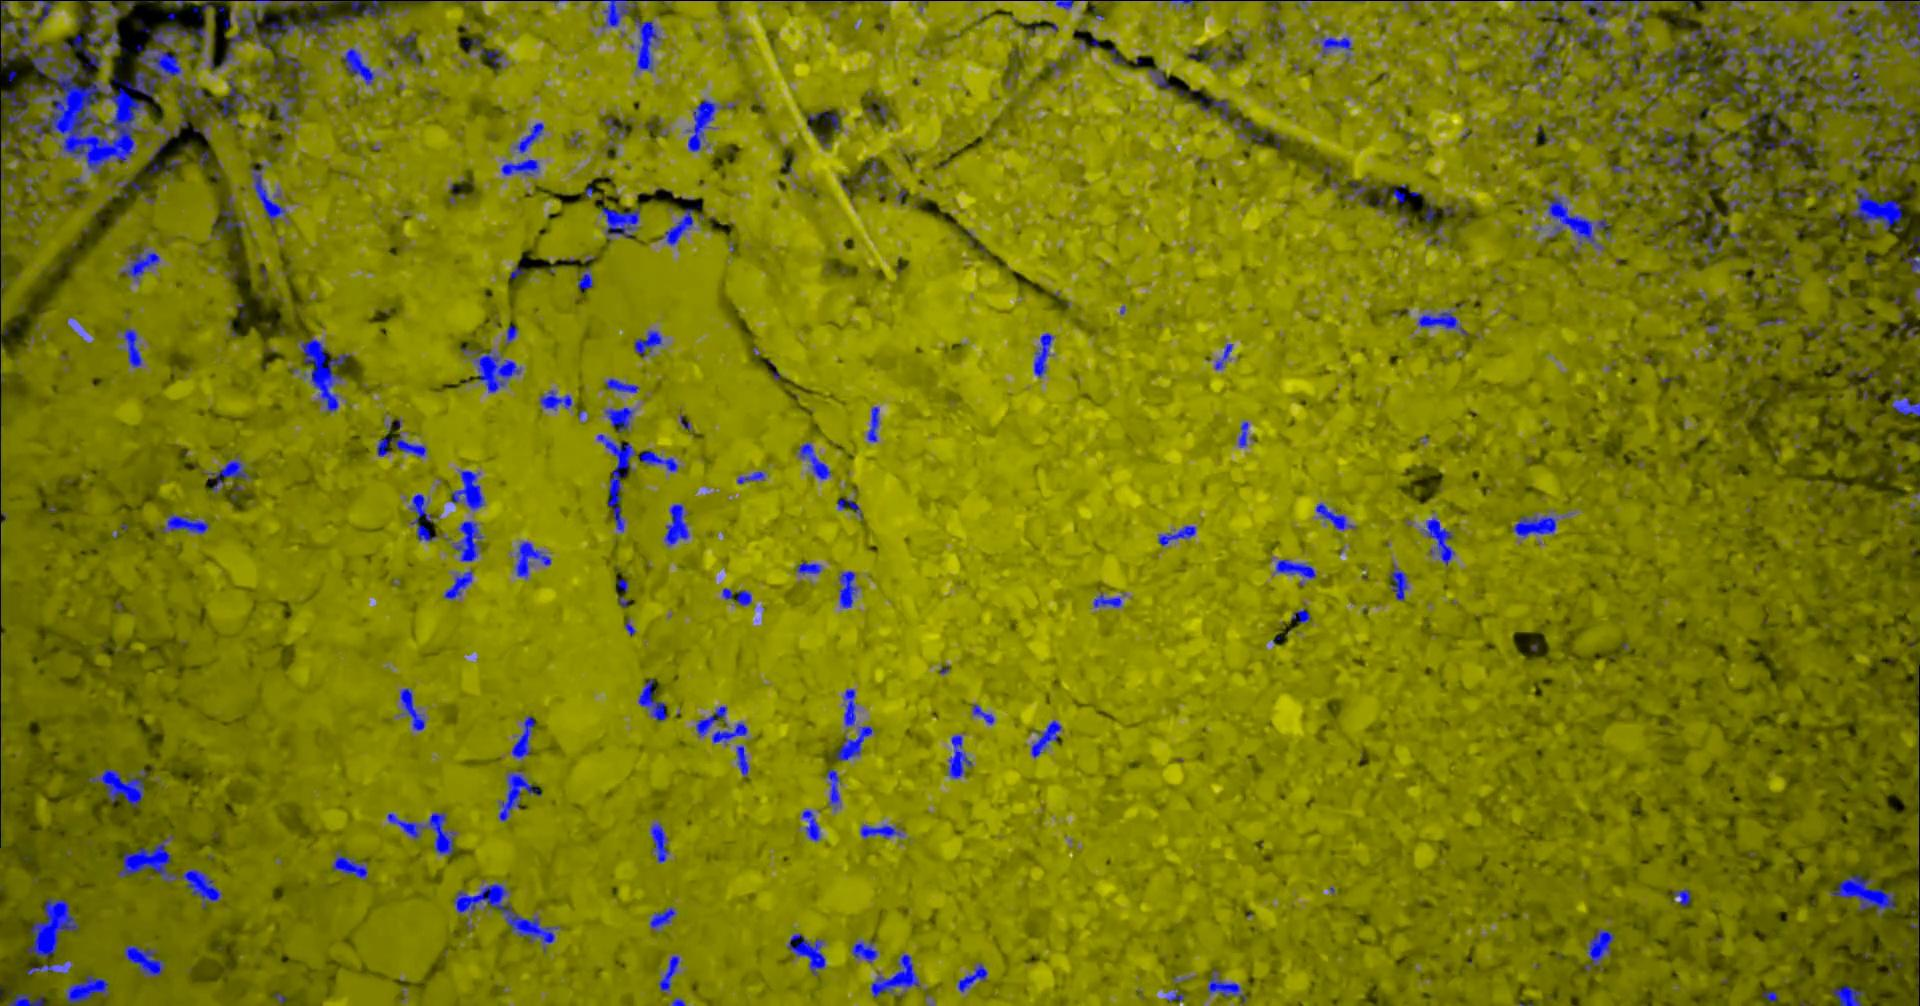ant: (1807, 43, 1876, 111), (1745, 77, 1794, 142), (386, 810, 455, 855), (686, 99, 734, 151), (1663, 51, 1718, 97), (88, 768, 149, 807), (1832, 0, 1884, 43), (1878, 0, 1919, 55), (870, 953, 919, 997), (498, 770, 541, 821), (250, 164, 286, 225), (258, 72, 298, 124), (695, 705, 747, 746), (1573, 0, 1643, 29), (215, 71, 248, 130), (1529, 27, 1564, 76), (786, 934, 825, 976), (1862, 135, 1903, 173), (631, 17, 660, 71), (1625, 9, 1650, 75), (202, 459, 250, 492), (1663, 130, 1697, 177), (1672, 25, 1718, 58), (1423, 517, 1454, 565), (63, 973, 108, 1005), (119, 245, 159, 281), (450, 470, 484, 511), (123, 944, 165, 977), (514, 541, 551, 578), (842, 159, 886, 189), (658, 207, 693, 245), (409, 493, 437, 541), (1186, 43, 1244, 66), (451, 520, 483, 561), (834, 725, 872, 760), (599, 206, 639, 239), (211, 194, 241, 236), (1583, 929, 1614, 970), (1713, 43, 1749, 79), (342, 46, 375, 84), (1208, 969, 1246, 1002), (1030, 719, 1062, 757), (637, 678, 665, 721), (1417, 311, 1467, 335), (799, 442, 830, 479), (463, 38, 502, 69), (376, 434, 427, 457), (663, 503, 690, 546), (399, 687, 425, 730), (946, 734, 971, 779), (1697, 133, 1723, 175), (1756, 128, 1802, 152), (1316, 503, 1356, 530), (1511, 514, 1557, 537), (510, 715, 535, 758), (331, 850, 367, 879), (157, 513, 208, 533), (147, 127, 177, 161), (1032, 332, 1054, 377), (1703, 212, 1727, 253), (601, 0, 637, 25), (513, 122, 543, 152), (1545, 0, 1577, 28), (957, 962, 987, 991), (395, 30, 419, 65), (122, 326, 142, 367), (1275, 558, 1316, 578), (443, 570, 471, 600), (649, 821, 668, 862), (658, 955, 679, 992), (632, 330, 662, 357), (1199, 95, 1229, 121), (805, 111, 841, 132), (1735, 140, 1752, 183), (1319, 36, 1351, 60), (25, 959, 71, 976), (1158, 525, 1195, 545), (1388, 563, 1408, 600), (603, 406, 634, 431), (838, 570, 857, 608), (538, 389, 571, 410), (649, 906, 676, 932), (500, 158, 538, 175), (1891, 392, 1919, 417), (272, 56, 302, 77), (1831, 984, 1863, 1005), (825, 768, 841, 810), (858, 824, 903, 838), (1732, 81, 1756, 107), (801, 809, 820, 841), (836, 498, 863, 520), (850, 940, 877, 962), (604, 118, 625, 147), (149, 158, 182, 175), (1727, 188, 1752, 211), (1688, 203, 1710, 229), (1611, 111, 1639, 131), (1390, 183, 1418, 203), (190, 85, 215, 108), (1883, 97, 1901, 127), (1778, 180, 1810, 197), (721, 587, 750, 605), (1147, 69, 1172, 89), (971, 702, 994, 724), (843, 688, 856, 727), (1214, 343, 1232, 370), (1237, 420, 1255, 447), (1857, 109, 1879, 130), (604, 379, 637, 392), (1343, 180, 1369, 198), (1898, 311, 1916, 337), (8, 992, 43, 1005), (1092, 592, 1121, 607), (1232, 118, 1255, 137), (866, 406, 879, 441), (1815, 179, 1839, 197), (1903, 108, 1919, 135), (0, 137, 24, 154), (0, 460, 6, 521), (1909, 911, 1919, 948), (113, 177, 140, 191), (735, 746, 748, 775), (1591, 32, 1613, 48), (328, 15, 358, 27), (63, 177, 81, 196), (795, 561, 822, 574), (1671, 888, 1690, 906), (1648, 137, 1662, 161), (577, 268, 592, 290), (177, 81, 189, 107), (737, 471, 764, 483), (1247, 130, 1267, 145), (1109, 47, 1125, 65), (1290, 608, 1310, 622), (1903, 255, 1919, 273), (160, 0, 189, 9), (1798, 95, 1811, 116), (1166, 988, 1185, 1001), (505, 324, 517, 344), (1575, 25, 1587, 43), (1708, 94, 1730, 104), (1423, 205, 1435, 222), (1054, 0, 1074, 9), (615, 578, 629, 591), (1757, 161, 1773, 173), (1761, 991, 1778, 1001), (0, 0, 9, 17), (0, 701, 1, 754)
